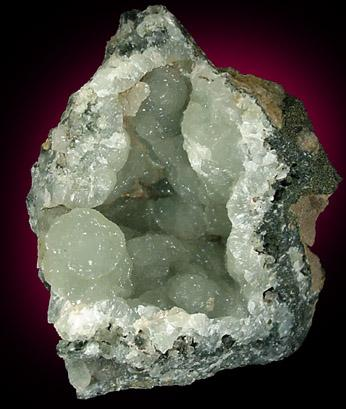prehnite: (42, 65, 245, 318)
